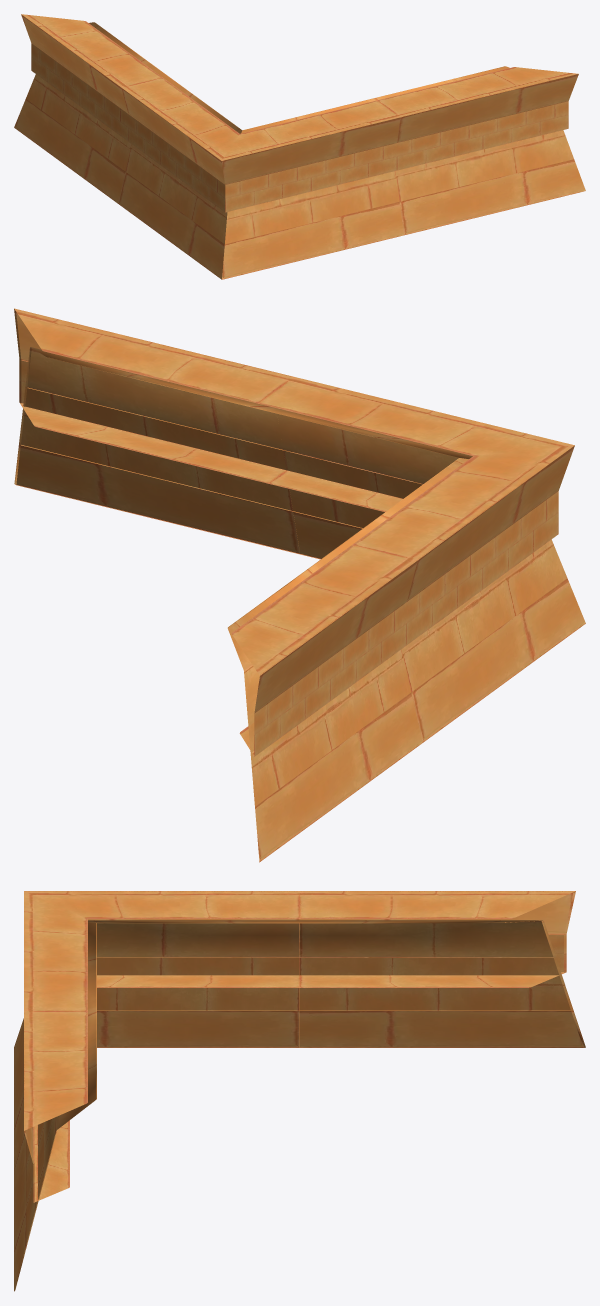
File: pm-temple-floor-03-cut.001.glb
The picture shows the model from 3 angles, top to bottom: view 1: azimuth 30°, elevation 25°; view 2: azimuth 150°, elevation 25°; view 3: azimuth 270°, elevation 25°; orthographic projection. The views are drawn at different scales.
Parts seen in each view (by area): view 1: TempleFloor03_Cut.001; view 2: TempleFloor03_Cut.001; view 3: TempleFloor03_Cut.001.
Part boxes in pixels (x1,y1,x2,y2): TempleFloor03_Cut.001: (14, 14, 585, 279); TempleFloor03_Cut.001: (14, 308, 585, 862); TempleFloor03_Cut.001: (14, 891, 585, 1291).
Bounding box in the file's own units: 49.08 × 14.86 × 48.56.
1 material, 1 textured.
